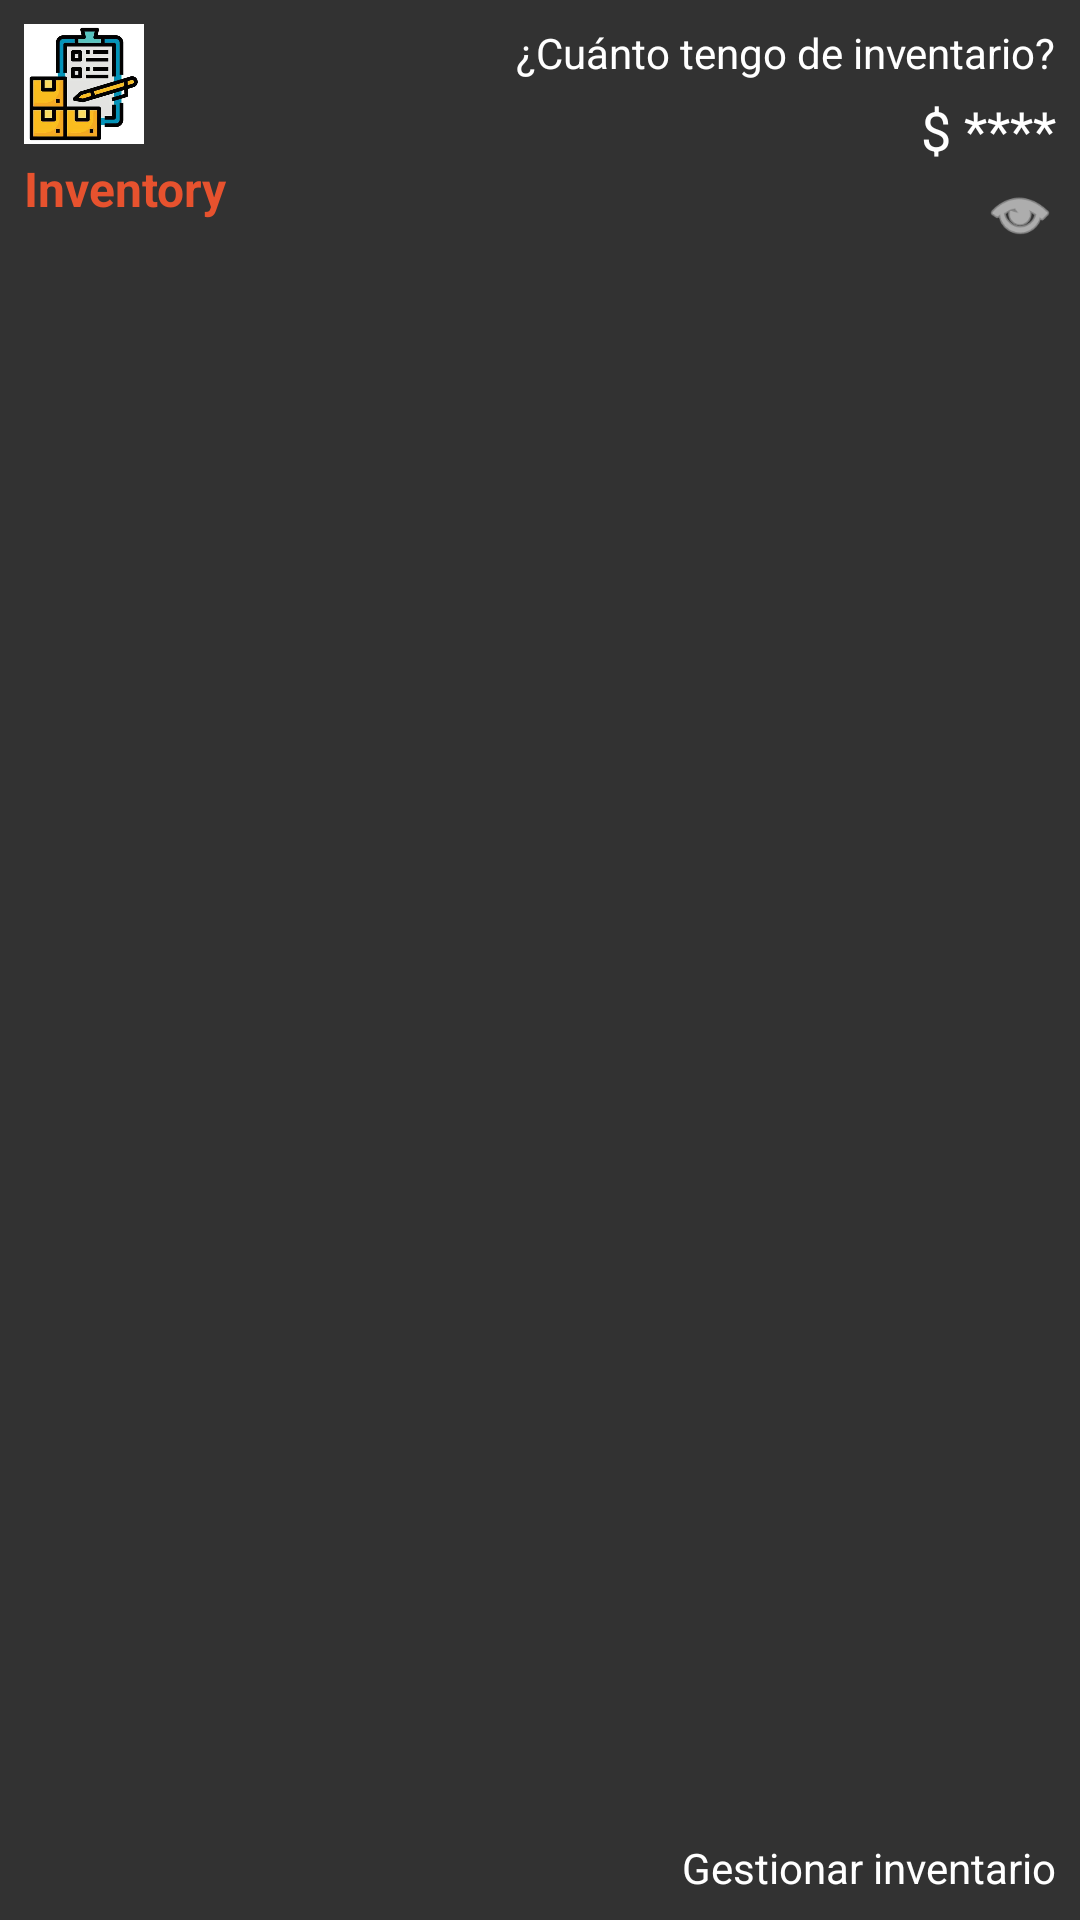

Named icons in this screenshot (1080 × 1920) and their centers, point (x, y):
view: point (1020, 215)
